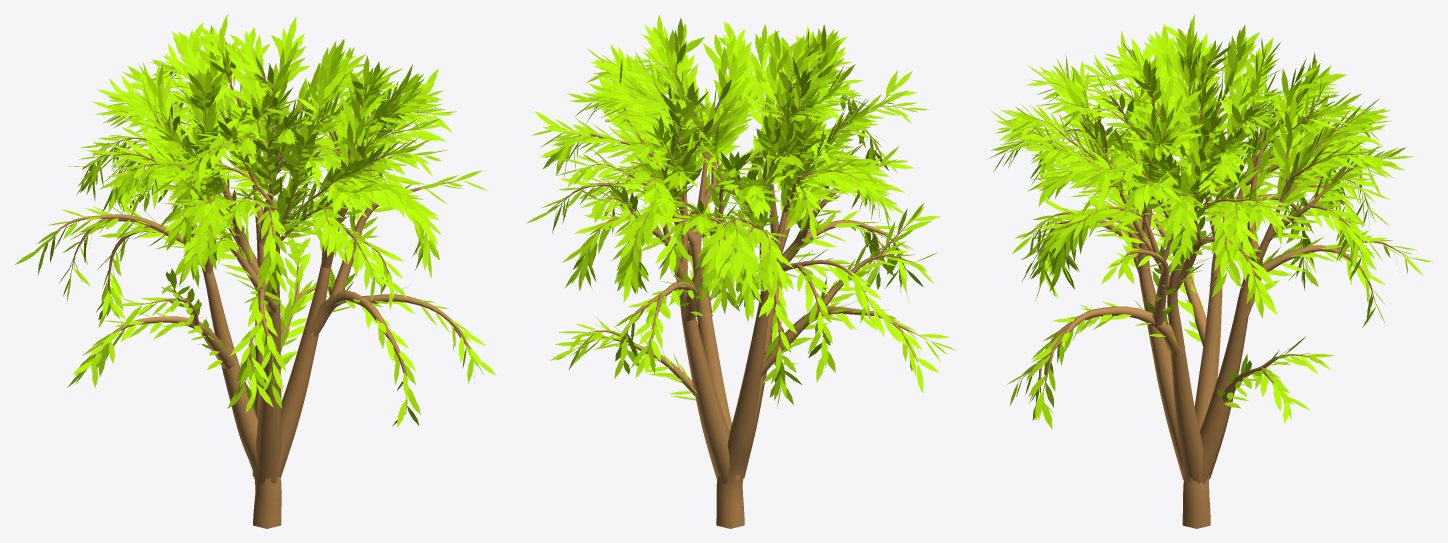
File: tree2.glb
The picture shows the model from 3 angles, left to right: view 1: azimuth 30°, elevation 25°; view 2: azimuth 150°, elevation 25°; view 3: azimuth 270°, elevation 25°; orthographic projection.
Visible parts, largest first — view 1: leaves.001, tree.001; view 2: leaves.001, tree.001; view 3: leaves.001, tree.001.
Part boxes in pixels (x1,y1,x2,y2): leaves.001: [15, 14, 496, 427]; tree.001: [41, 40, 469, 528]; leaves.001: [526, 14, 956, 408]; tree.001: [555, 49, 917, 528]; leaves.001: [986, 14, 1432, 429]; tree.001: [1011, 61, 1410, 528].
Size of the model in its own units: 5.48 by 6.41 by 5.54.
